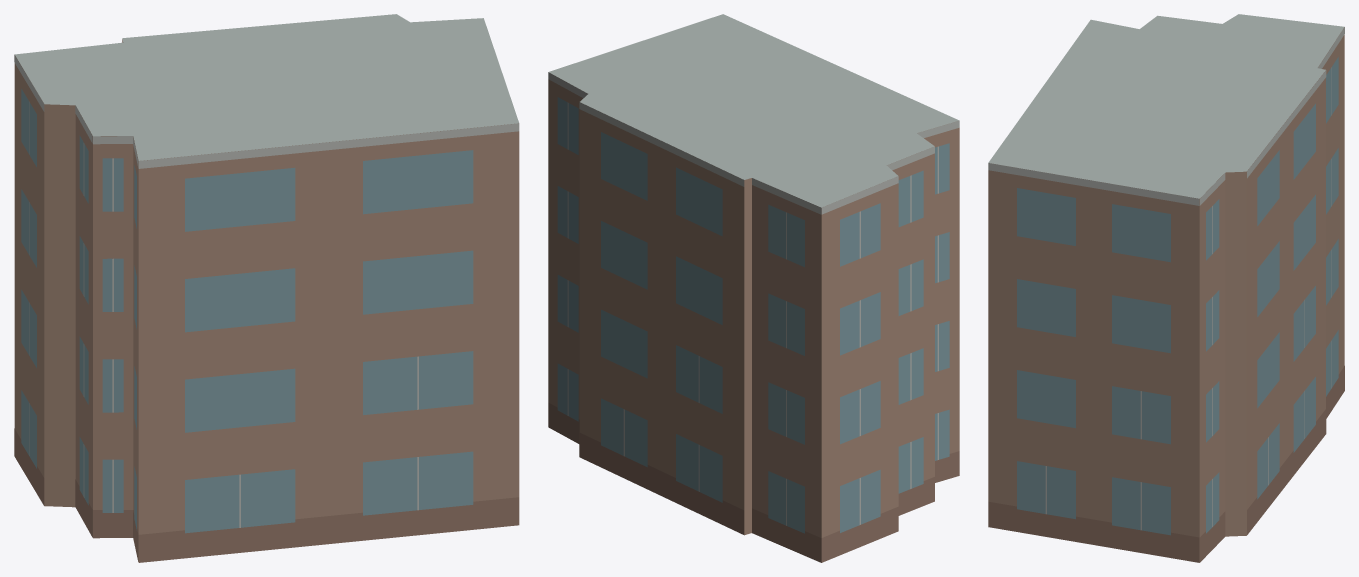
File: survey-upis-32648903.glb
The picture shows the model from 3 angles, left to right: view 1: azimuth 30°, elevation 25°; view 2: azimuth 150°, elevation 25°; view 3: azimuth 270°, elevation 25°; orthographic projection. The views are drawn at different scales.
Visible parts, largest first — view 1: survey-upis-32648903.tmp; view 2: survey-upis-32648903.tmp; view 3: survey-upis-32648903.tmp.
Boxes of the visible parts, x1,y1,x2,y2 form: survey-upis-32648903.tmp: (14, 14, 519, 562); survey-upis-32648903.tmp: (548, 14, 959, 562); survey-upis-32648903.tmp: (988, 14, 1344, 562).
Bounding box in the file's own units: 13.28 × 12.2 × 10.84.
